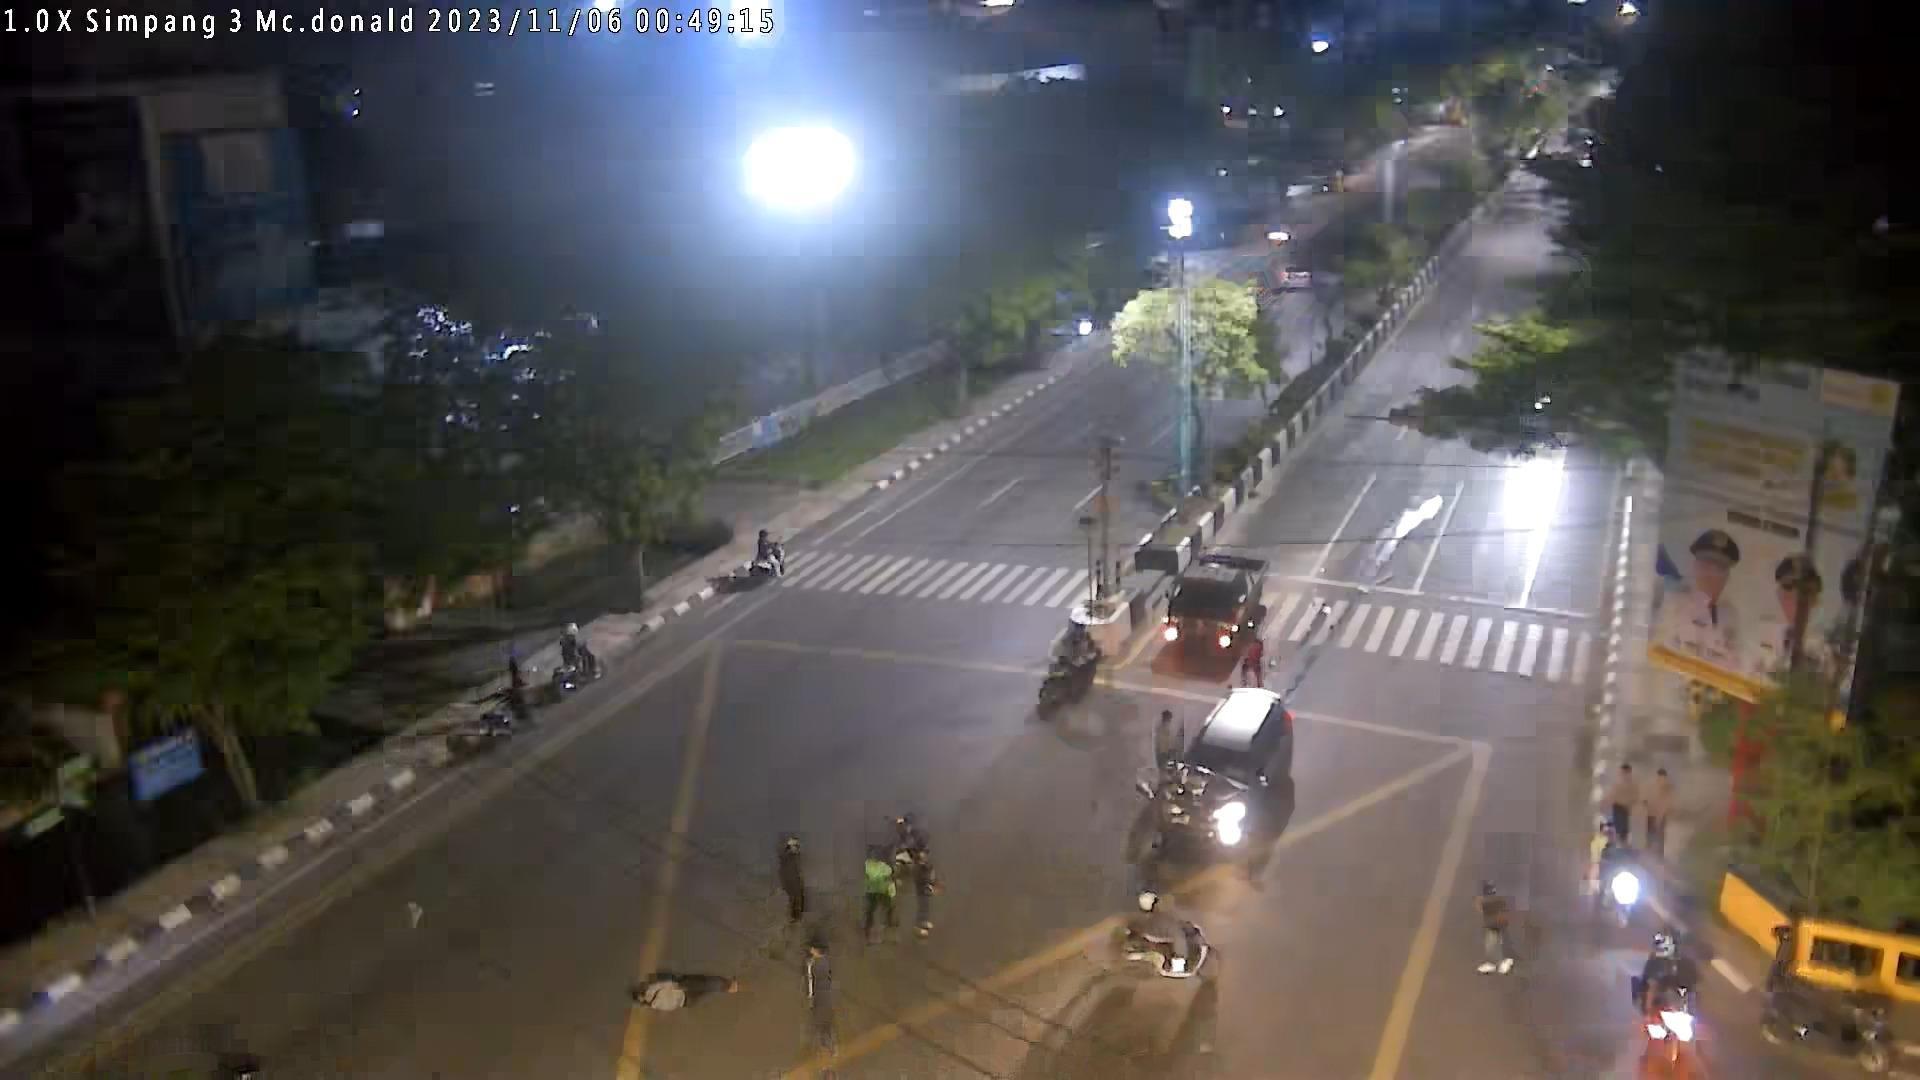accident: (629, 968, 741, 1014)
